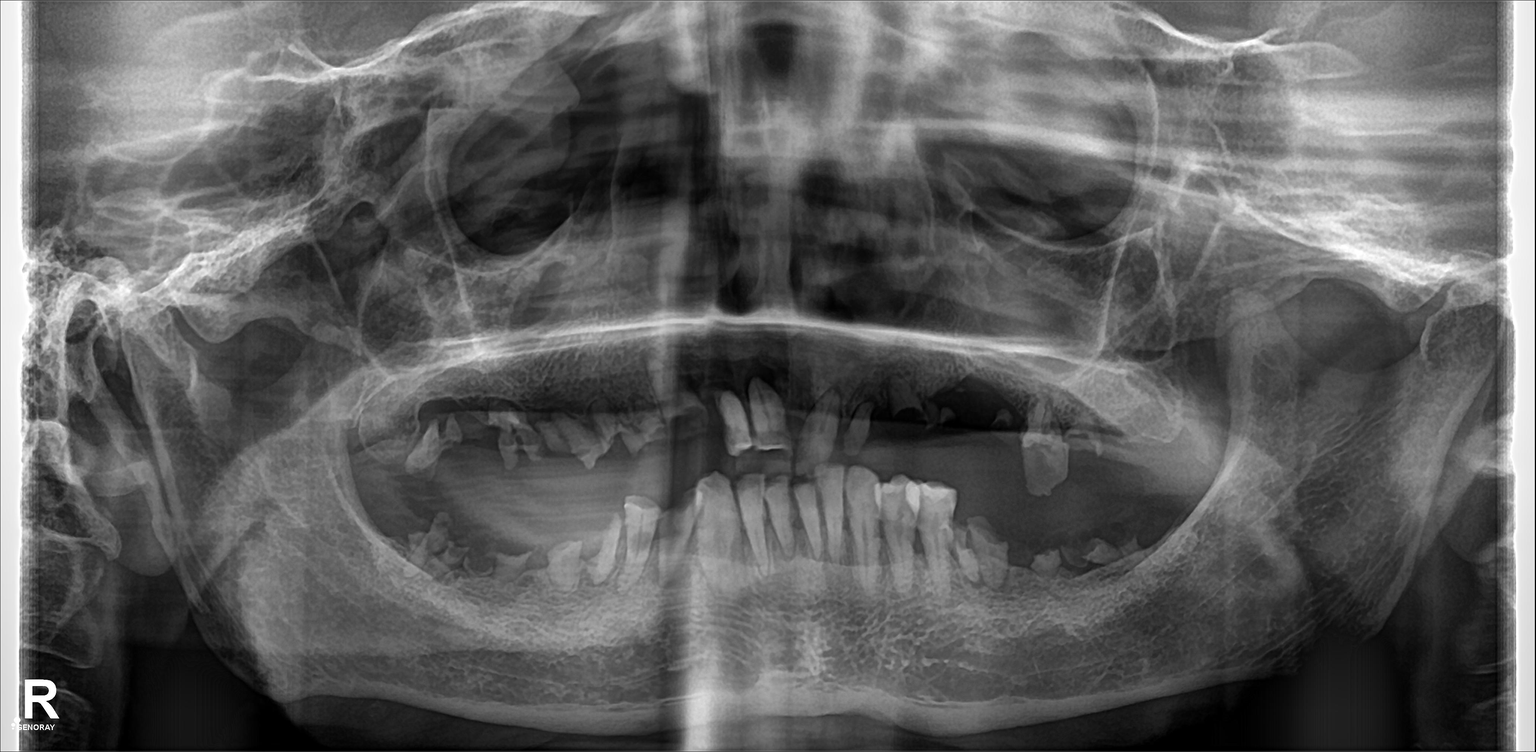Missing Tooth: (1171, 387, 1223, 460), (1151, 499, 1196, 554), (363, 393, 396, 462), (1138, 406, 1165, 471)
Retained Root: (967, 512, 1007, 590), (939, 374, 982, 444), (538, 521, 575, 596), (1063, 523, 1101, 596), (389, 512, 429, 576), (490, 402, 529, 466), (592, 512, 624, 590), (447, 523, 484, 588), (890, 382, 925, 448), (993, 389, 1034, 444), (1015, 525, 1053, 584), (402, 400, 432, 474), (540, 404, 578, 460), (585, 404, 623, 454), (1117, 525, 1144, 593), (633, 402, 663, 462), (678, 387, 708, 445), (445, 413, 478, 465), (497, 536, 521, 585)
Tooth Fracture: (1076, 411, 1107, 465)
